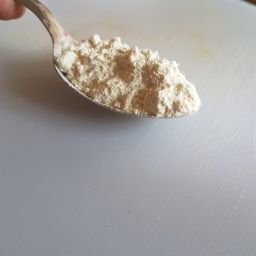Gram/ Flour: (67, 36, 205, 131), (52, 27, 179, 110)
